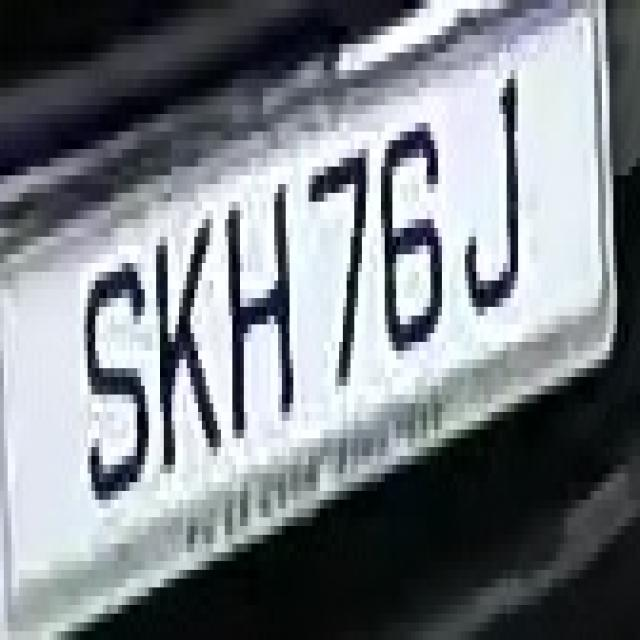6: (362, 123, 449, 377)
7: (293, 114, 377, 394)
H: (217, 166, 301, 464)
J: (457, 53, 533, 333)
K: (141, 166, 217, 474)
S: (76, 237, 156, 526)
